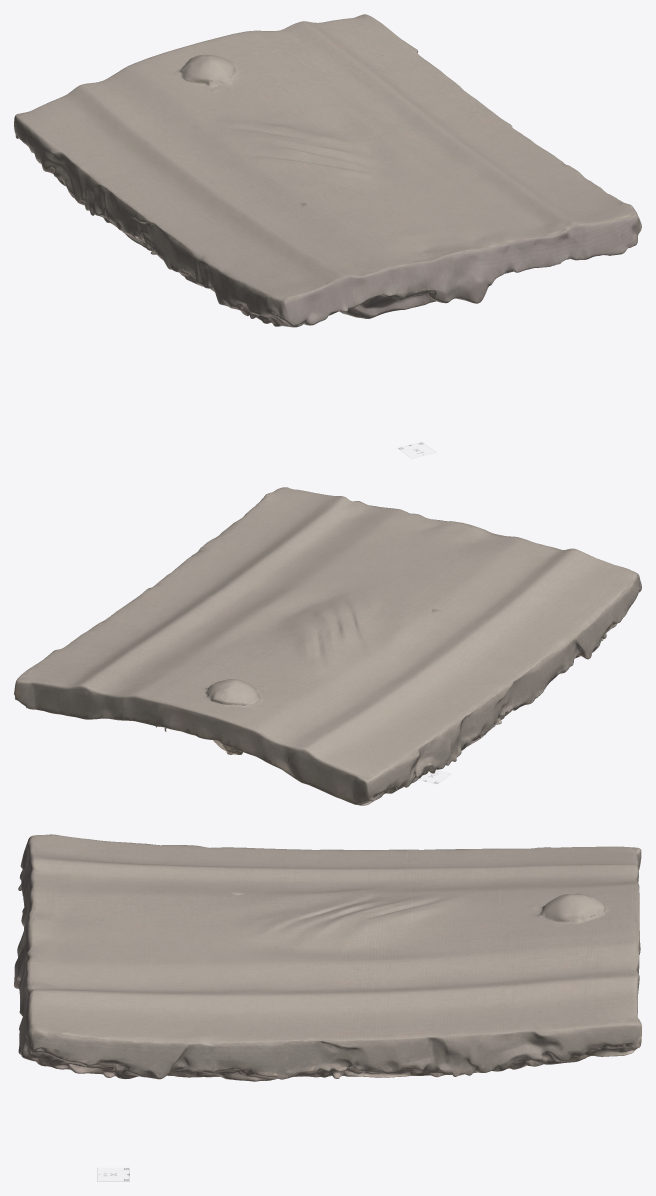
File: project9.glb
3 views of the same model, one above another, from view 1: azimuth 30°, elevation 25°; view 2: azimuth 150°, elevation 25°; view 3: azimuth 270°, elevation 25° (orthographic). The views are drawn at different scales.
Visible parts, largest first — view 1: 09PiringerChristopher_GyőriLevente; view 2: 09PiringerChristopher_GyőriLevente; view 3: 09PiringerChristopher_GyőriLevente.
Boxes of the visible parts, x1,y1,x2,y2 form: 09PiringerChristopher_GyőriLevente: (14, 14, 641, 327); 09PiringerChristopher_GyőriLevente: (14, 487, 641, 805); 09PiringerChristopher_GyőriLevente: (14, 834, 641, 1081).
Bounding box in the file's own units: 7.47 × 4.65 × 9.57.
2 materials, 2 textured.
